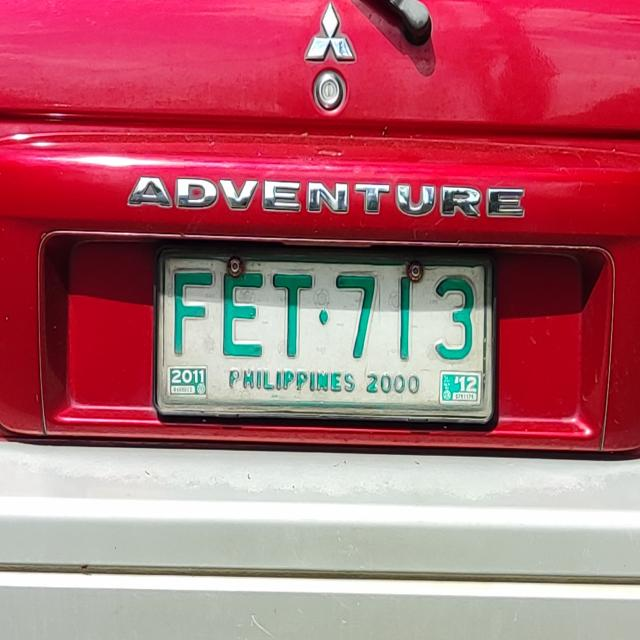plate: (152, 241, 497, 432)
